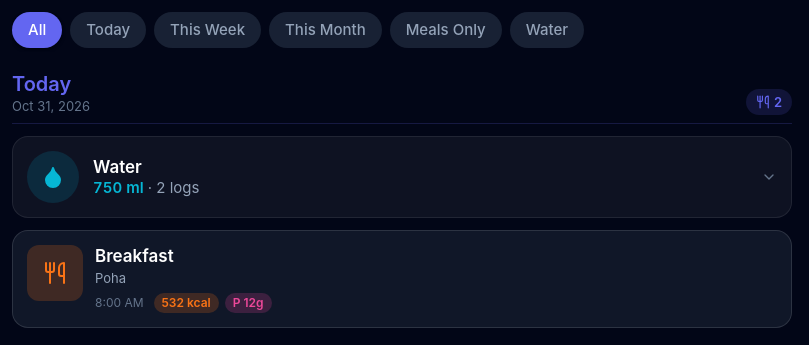
FoodLogFeed › filters with the iOS chips
Click the button with test id "food-filter-water" at (547, 30), box [510,12,584,48]
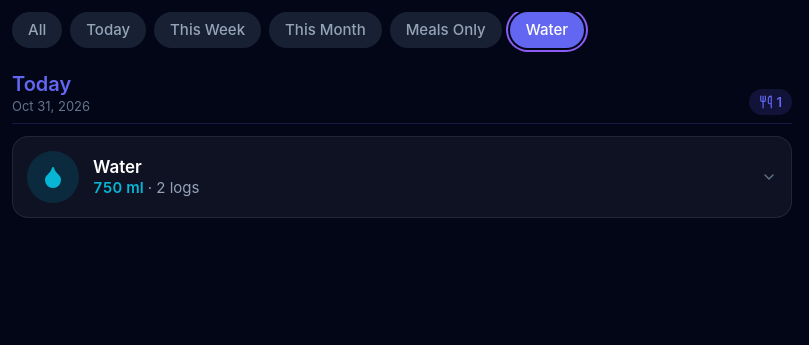
Expected: the element with test id "water-day-card" is shown, [12,136,792,218]
Expected: the element with test id "meal-card" is gone
Click the button with test id "food-filter-meals" at (446, 30), box [390,12,502,48]
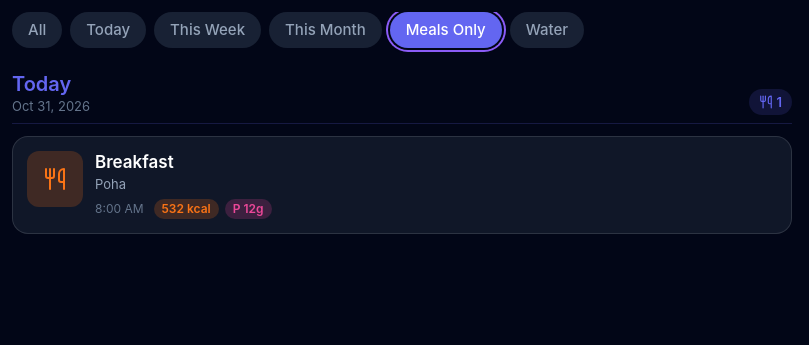
Expected: the number of elements with test id "meal-card" is 1, [12,136,792,234]
Expected: the element with test id "water-day-card" is gone
